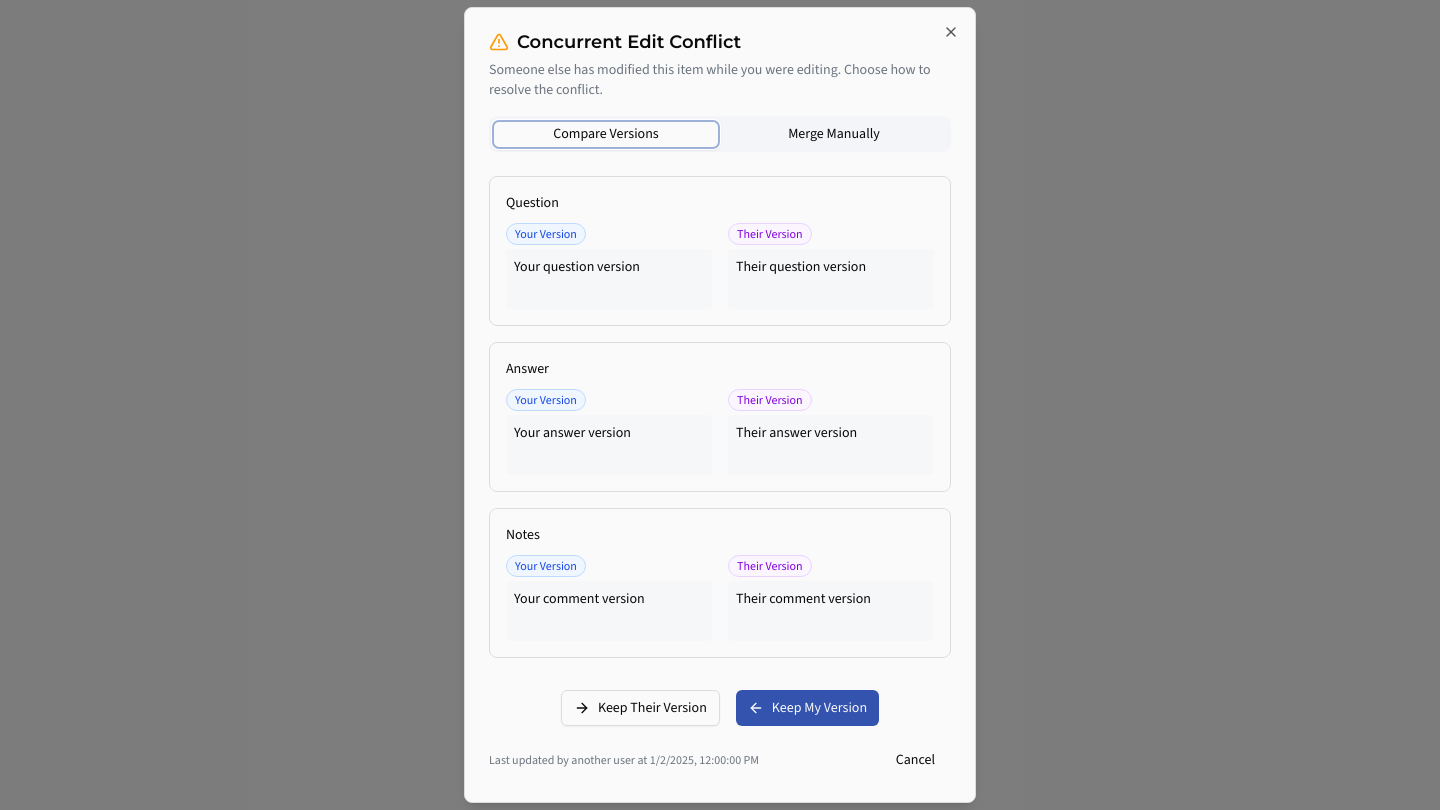
Test: ConflictResolutionModal › merge view (AC6) › should populate textarea with their version when "Use Theirs" is clicked
Click the tab "Merge Manually": (834, 134) [720,120,948,148]
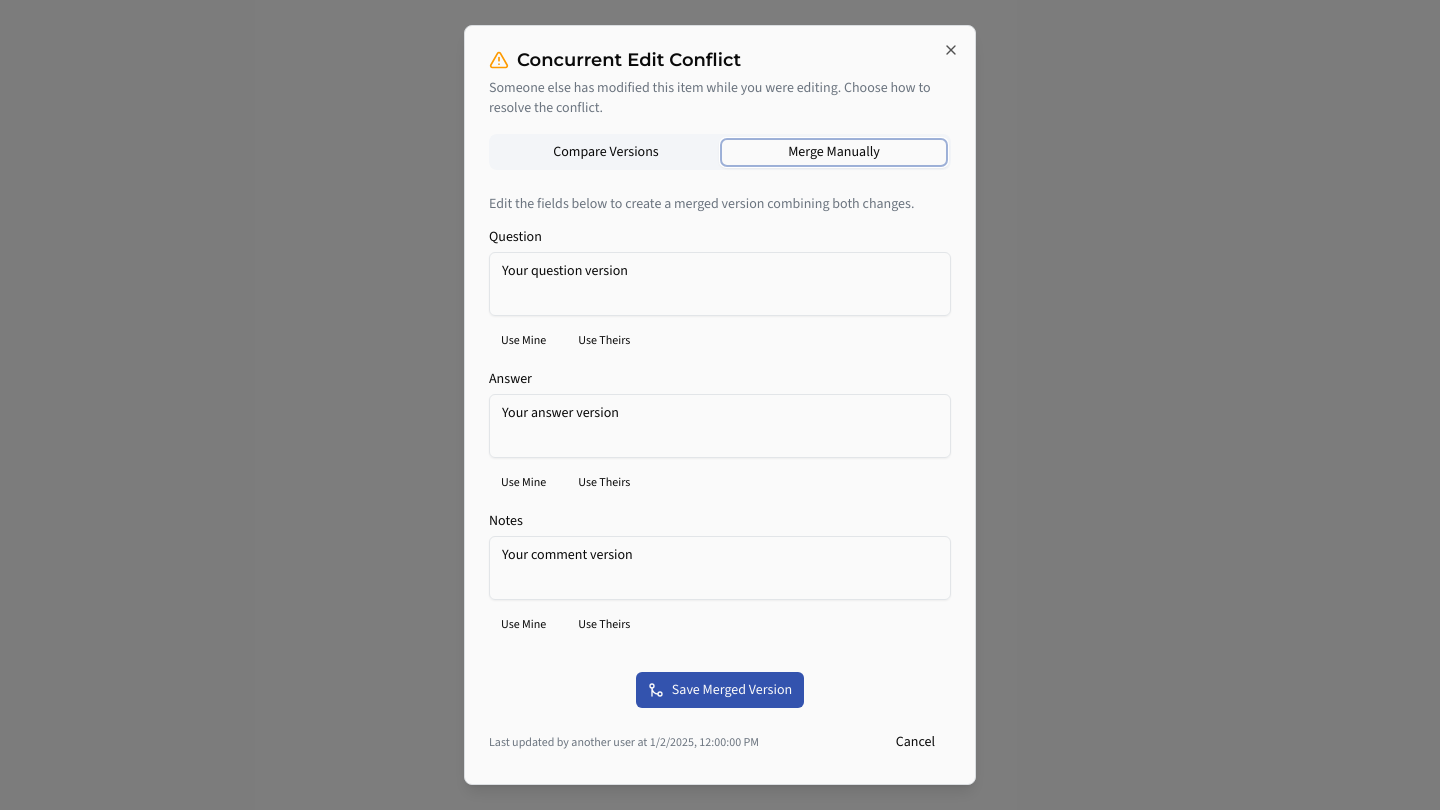
Now the button "Use Theirs" below "Question" is shown
Click the button "Use Theirs" below "Question": (604, 340) [566,324,642,356]
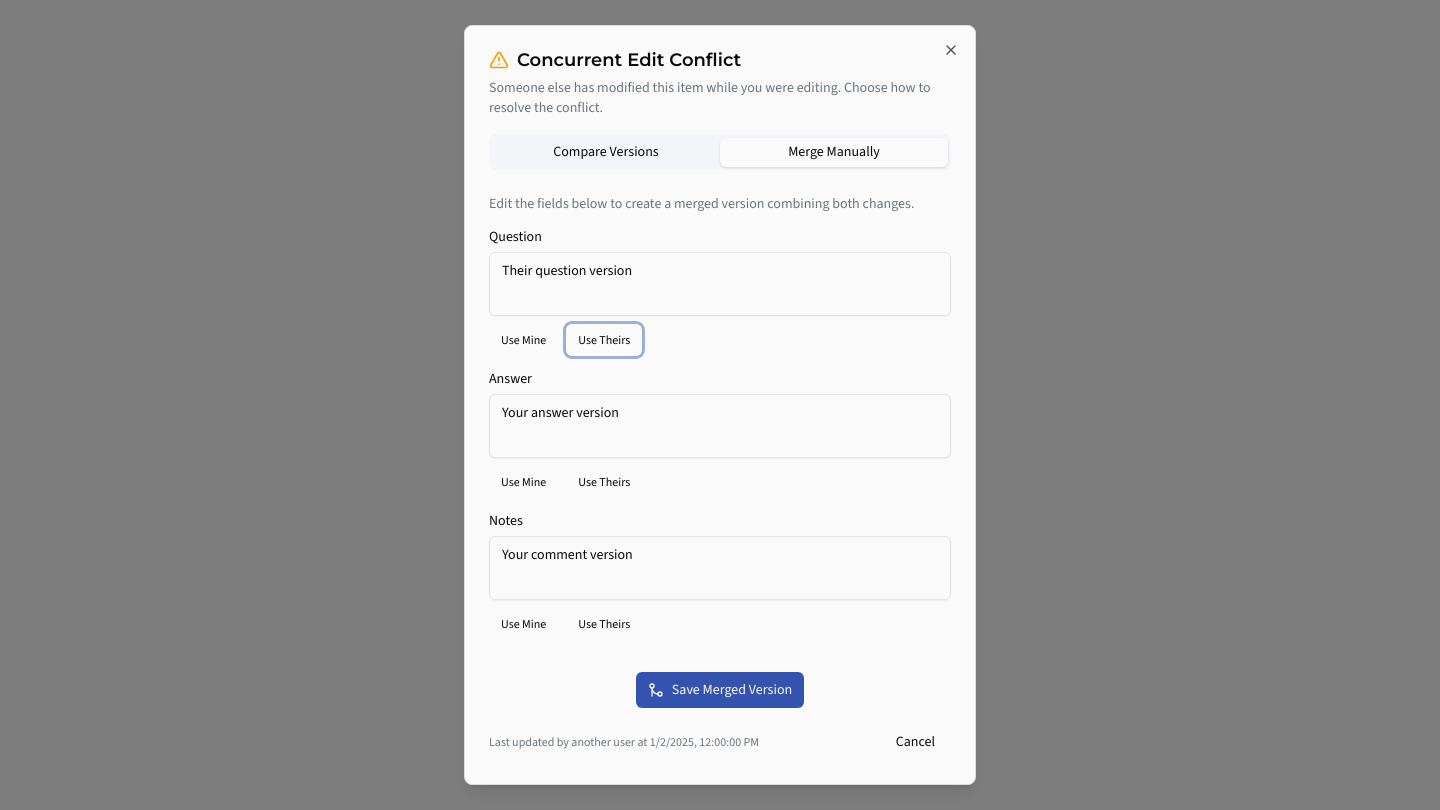
Now the text box labelled "Question" holds "Their question version", box [489,252,951,316]
